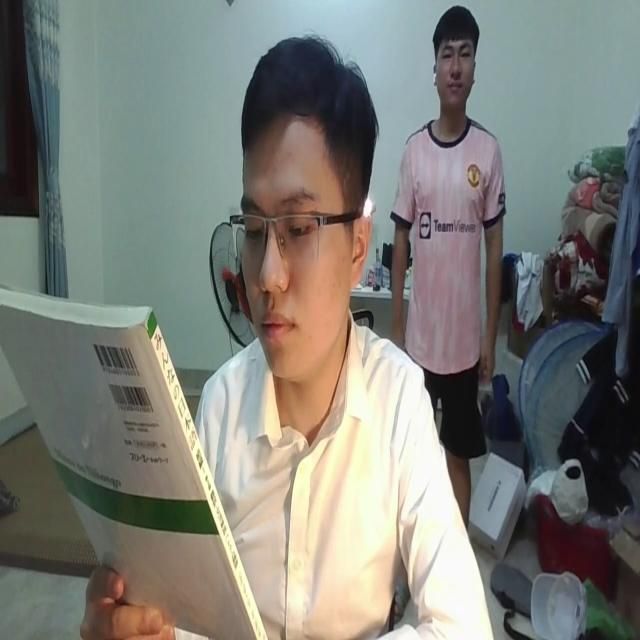book: (0, 279, 264, 640)
extra_person: (388, 7, 508, 532)
student: (198, 21, 492, 640)
